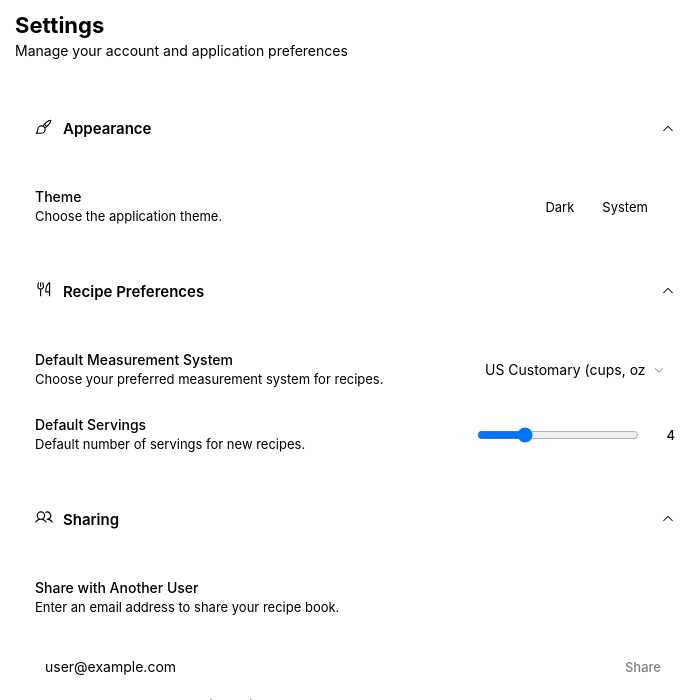
Test: SharingSection (within SettingsPage) › shows validation error for invalid email
Type "not-an-email" into the field with placeholder "user@example.com". click: (319, 667)
box: [35, 652, 603, 681]
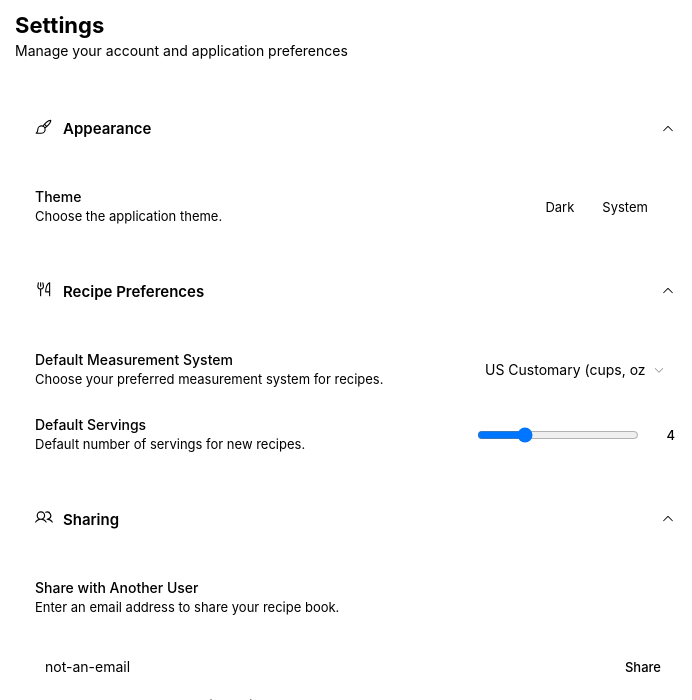
Click the button "Share". click: click(643, 667)
box: [611, 652, 675, 681]
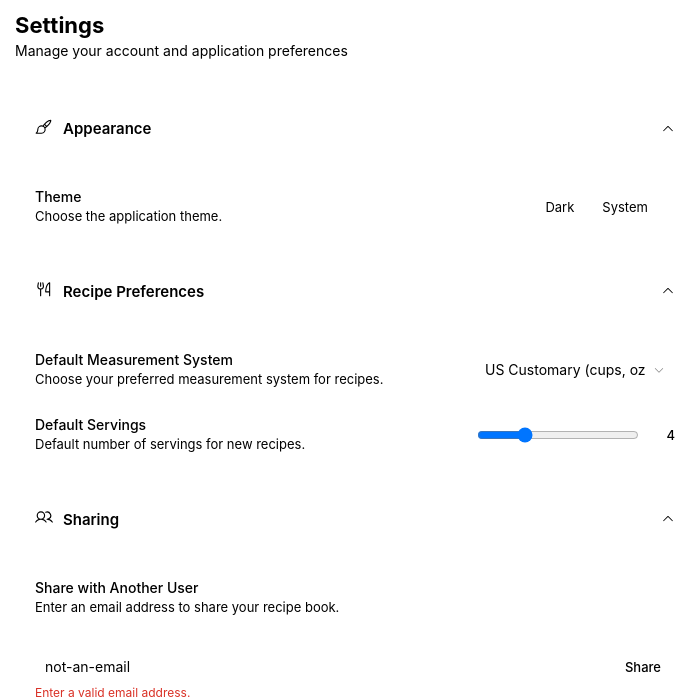
Expected: the text "Enter a valid email address." is shown, [35, 685, 190, 699]
